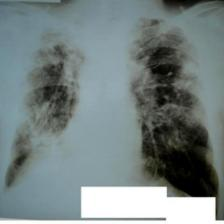tuberculosis: (0, 7, 220, 201)
